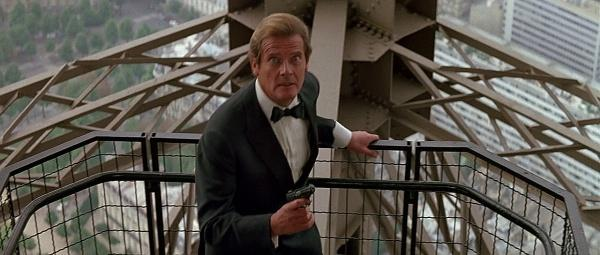Gun: (285, 184, 316, 210)
